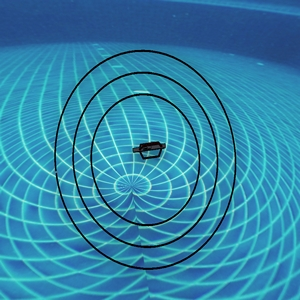circle: (41, 31, 256, 284)
submarine: (133, 137, 167, 159)
